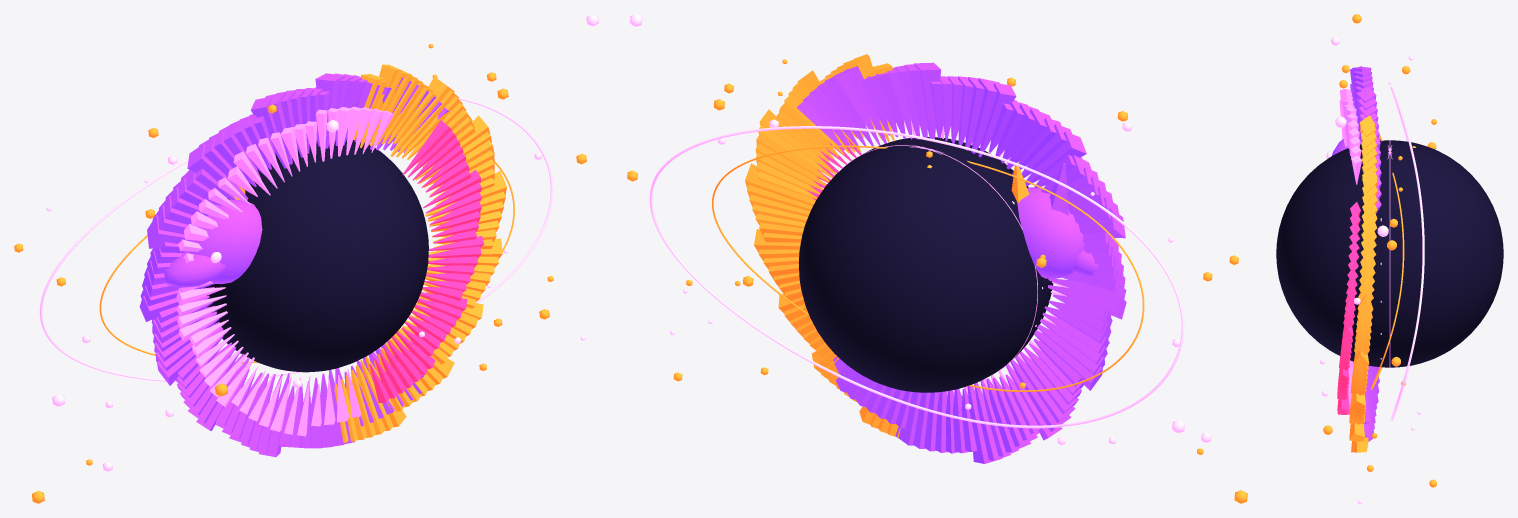
The model's file is hero-crystal-fox.glb.
The picture shows the model from 3 angles, left to right: view 1: azimuth 30°, elevation 25°; view 2: azimuth 150°, elevation 25°; view 3: azimuth 270°, elevation 25°; orthographic projection. The views are drawn at different scales.
Parts seen in each view (by area): view 1: NetworkGlobe, FoxHead, WideOrbit, FoxSnout, NightlyBody027, OrangeTail048, NightlyBody013, NightlyBody034; view 2: NetworkGlobe, WideOrbit, FoxHead, TightOrbit, NightlyBody027, NightlyBody013, NightlyBody041, NightlyBody019, NightlyBody020, NightlyBody048, NightlyBody024, NightlyBody062 (+15 smaller); view 3: NetworkGlobe, WideOrbit, TightOrbit, GlobeLongitude0.
Part boxes in pixels (x1,y1,x2,y2): NetworkGlobe: (204, 138, 428, 372); FoxHead: (184, 199, 262, 284); WideOrbit: (39, 97, 553, 382); FoxSnout: (164, 252, 225, 287); NightlyBody027: (187, 143, 248, 199); OrangeTail048: (390, 76, 454, 156); NightlyBody013: (315, 73, 344, 148); NightlyBody034: (147, 215, 189, 248); NetworkGlobe: (799, 137, 1053, 392); WideOrbit: (649, 126, 1184, 428); FoxHead: (1017, 187, 1084, 278); TightOrbit: (712, 145, 1144, 391); NightlyBody027: (1025, 131, 1086, 186); NightlyBody013: (914, 62, 940, 139); NightlyBody041: (1048, 285, 1126, 319); NightlyBody019: (971, 78, 999, 153); NightlyBody020: (978, 83, 1016, 157); NightlyBody048: (1034, 330, 1102, 390); NightlyBody024: (1006, 108, 1051, 169); NightlyBody062: (967, 384, 1002, 463); NetworkGlobe: (1276, 140, 1503, 367); WideOrbit: (1390, 86, 1424, 420); TightOrbit: (1371, 131, 1404, 389); GlobeLongitude0: (1389, 140, 1390, 367).
Bounding box in the file's own units: 7.71 × 4.69 × 2.84.
